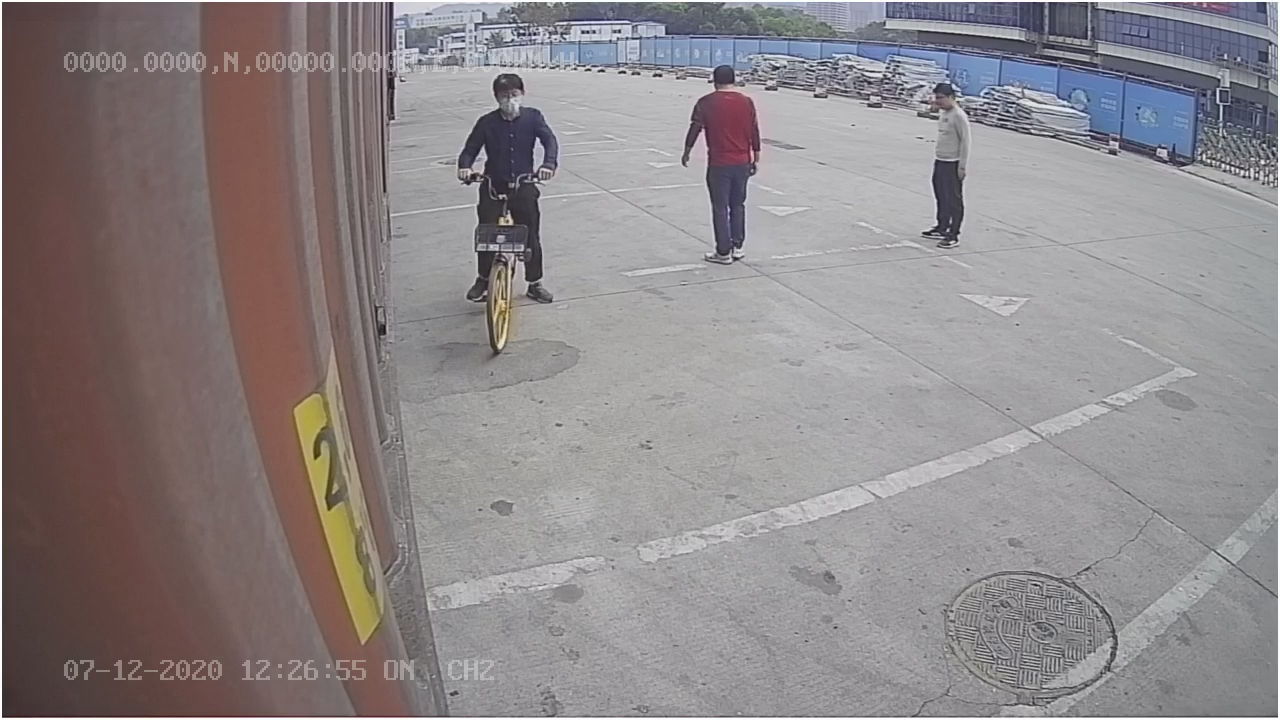person: (673, 58, 764, 267)
